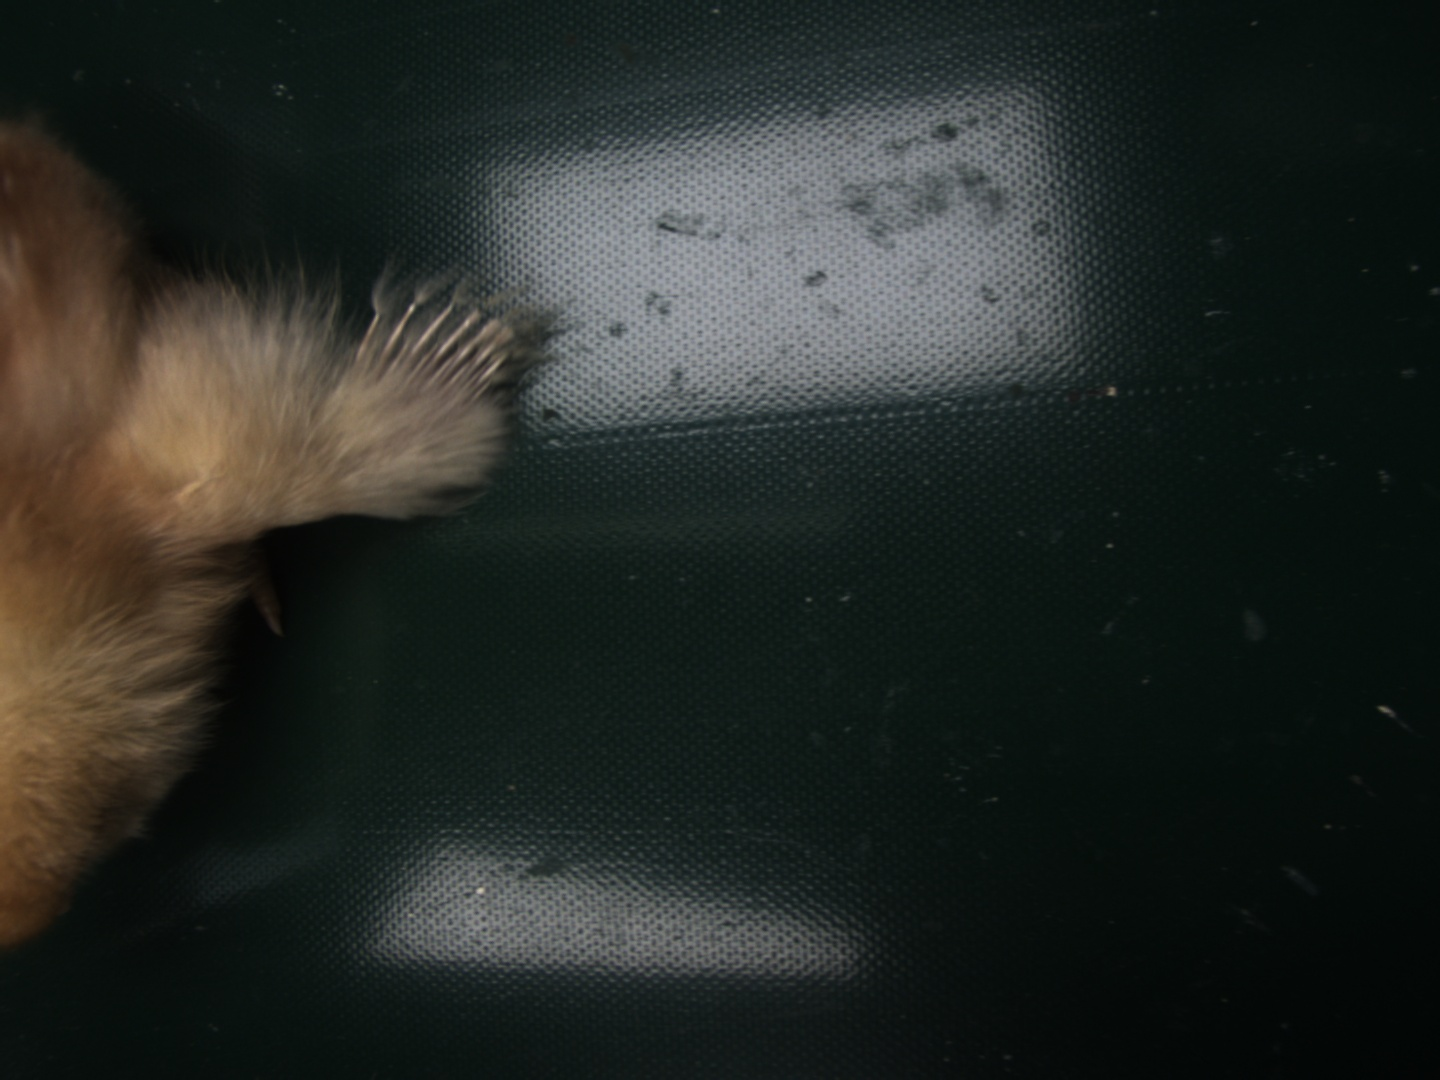female: (348, 299, 519, 408)
